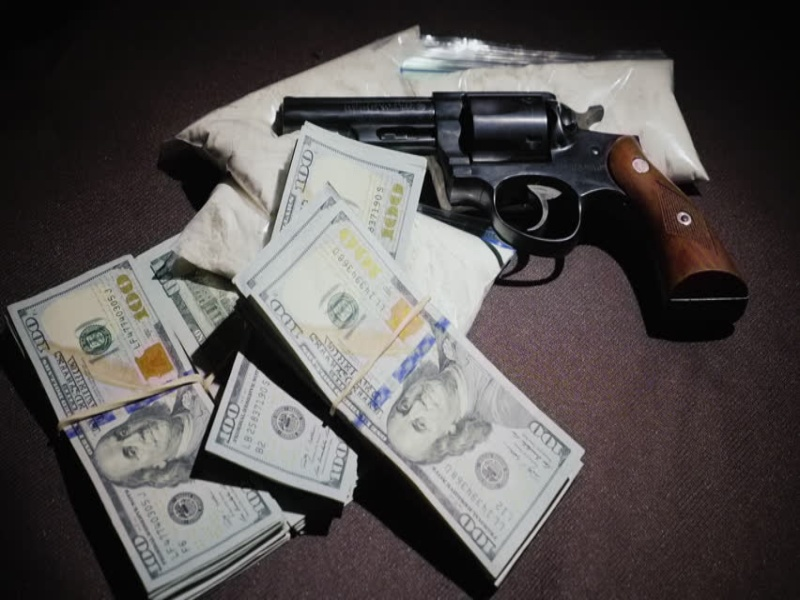cash: (229, 182, 586, 588), (7, 232, 312, 600), (205, 119, 428, 505)
weapon: (272, 91, 748, 328)
